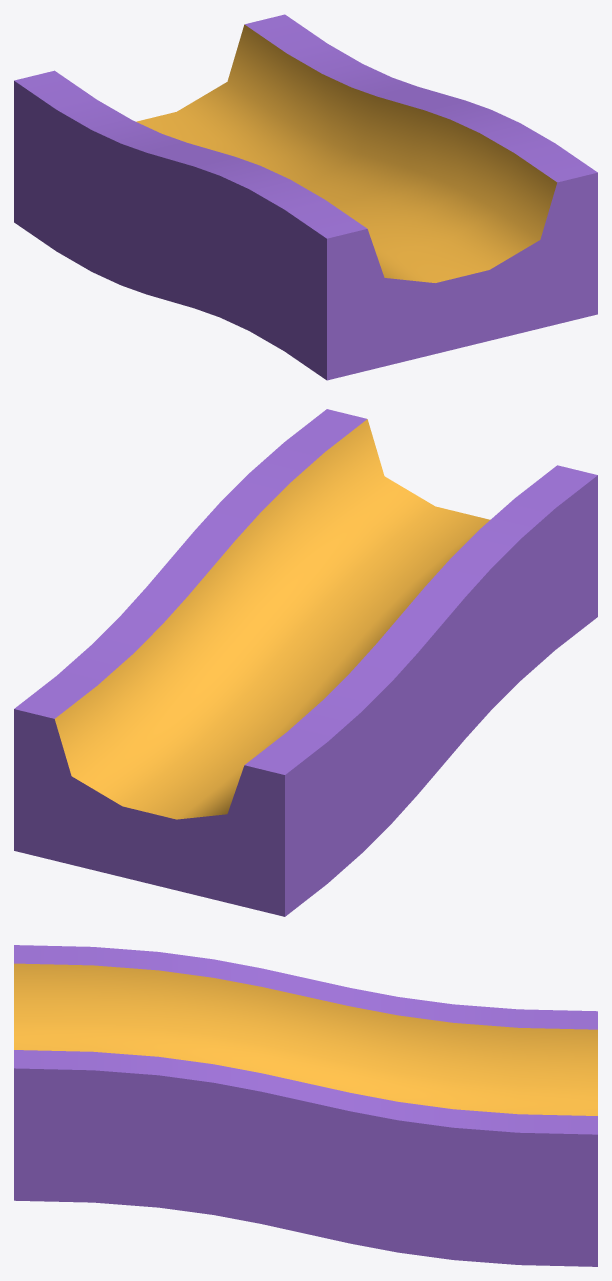
The model's file is ramp-long-a.glb.
3 views of the same model, one above another, from view 1: azimuth 30°, elevation 25°; view 2: azimuth 150°, elevation 25°; view 3: azimuth 270°, elevation 25° (orthographic). The views are drawn at different scales.
Visible parts, largest first — view 1: ramp-long-a; view 2: ramp-long-a; view 3: ramp-long-a.
Part boxes in pixels (left/top/right/bottom): ramp-long-a: left=14, top=14, right=597, bottom=380; ramp-long-a: left=14, top=409, right=597, bottom=916; ramp-long-a: left=14, top=945, right=597, bottom=1266.
Size of the model in its own units: 1 by 0.7501 by 2.
Materials: 1 (1 with a texture image).
